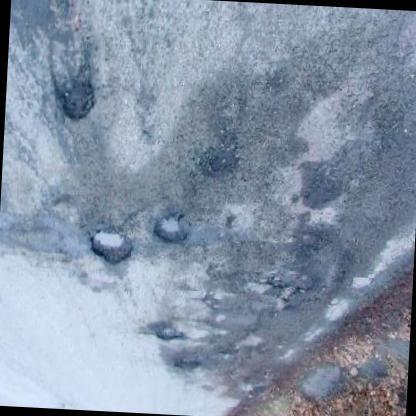pothole: (296, 226, 360, 284), (197, 130, 247, 179), (298, 160, 346, 208), (262, 266, 318, 306), (58, 76, 98, 120), (89, 226, 135, 263), (154, 210, 190, 246), (155, 324, 186, 343), (176, 354, 202, 376)
